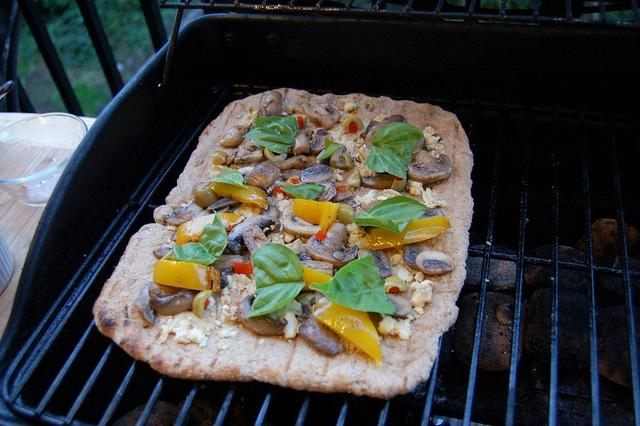mushroom: (305, 223, 360, 268), (227, 215, 281, 255), (237, 295, 288, 336), (407, 150, 452, 185), (148, 288, 200, 316), (299, 100, 341, 130), (242, 160, 280, 190), (162, 200, 204, 226), (415, 250, 455, 274), (282, 213, 322, 236), (314, 172, 344, 202), (208, 256, 235, 288), (362, 172, 402, 189), (384, 293, 412, 317), (275, 154, 314, 171), (300, 164, 334, 182), (291, 129, 309, 156)
